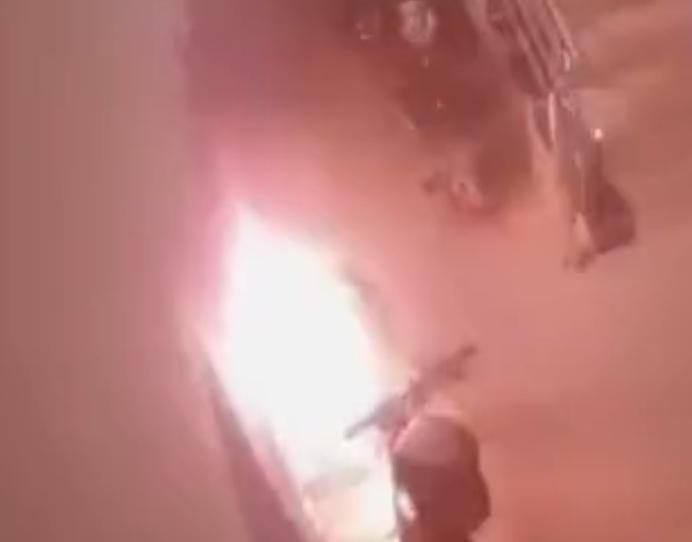fire: (193, 190, 438, 536)
